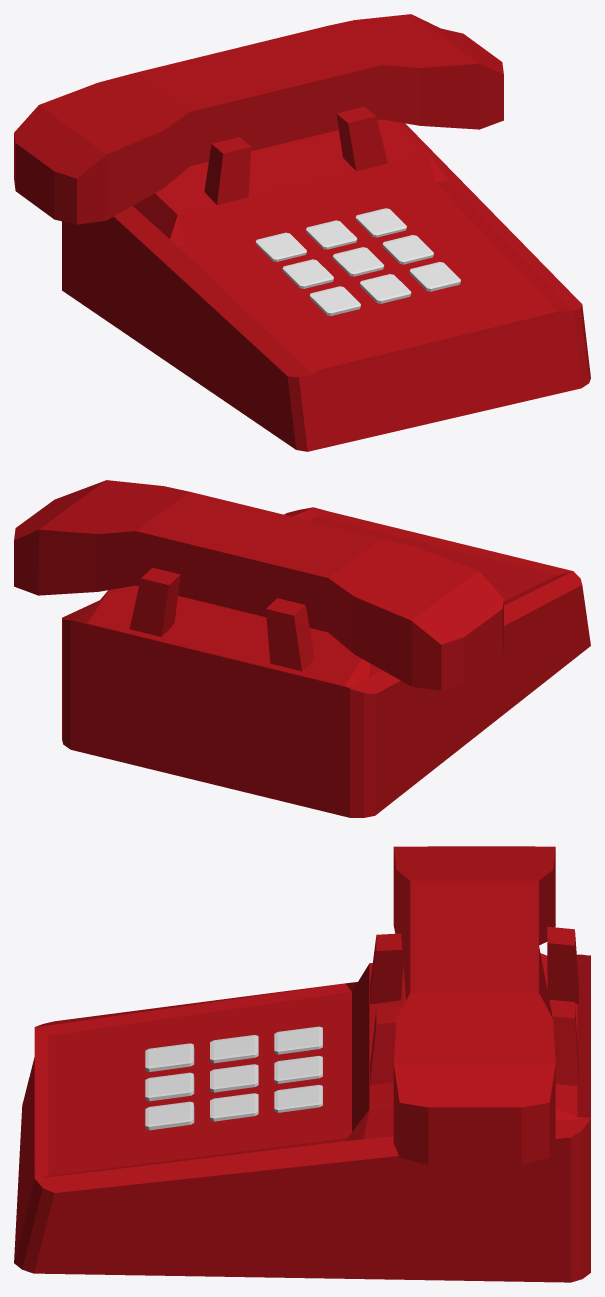
Rendered from telefon.fbx.
3 views of the same model, one above another, from view 1: azimuth 30°, elevation 25°; view 2: azimuth 150°, elevation 25°; view 3: azimuth 270°, elevation 25° (orthographic). The views are drawn at different scales.
Parts seen in each view (by area): view 1: Cube, Cube.001, Cube.014; view 2: Cube, Cube.001; view 3: Cube, Cube.001, Cube.014.
Part boxes in pixels (x1,y1,x2,y2): Cube: (62,106,590,451); Cube.001: (14,14,503,224); Cube.014: (255,208,460,315); Cube: (62,507,590,817); Cube.001: (14,480,503,690); Cube: (14,926,590,1282); Cube.001: (393,846,555,1164); Cube.014: (145,1026,322,1130).
Bounding box in the file's own units: 214 × 97.4 × 200.
